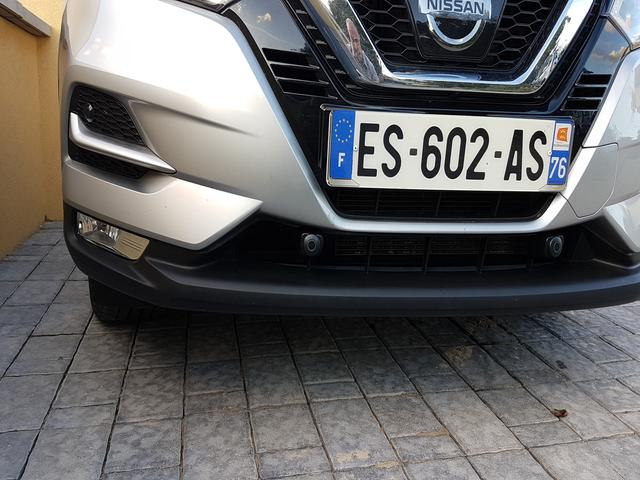Quashquai: (291, 73, 600, 229)
